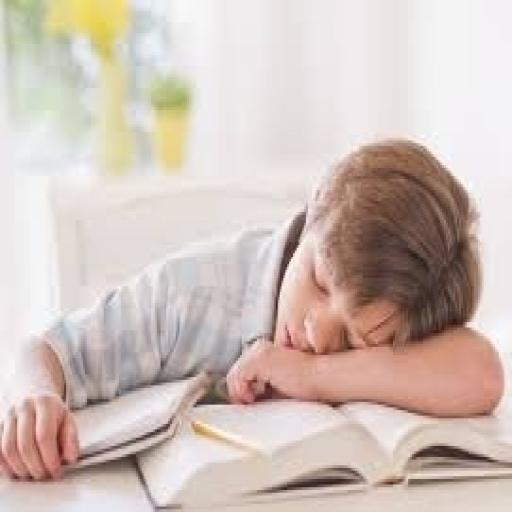sleeping: (0, 134, 506, 484)
